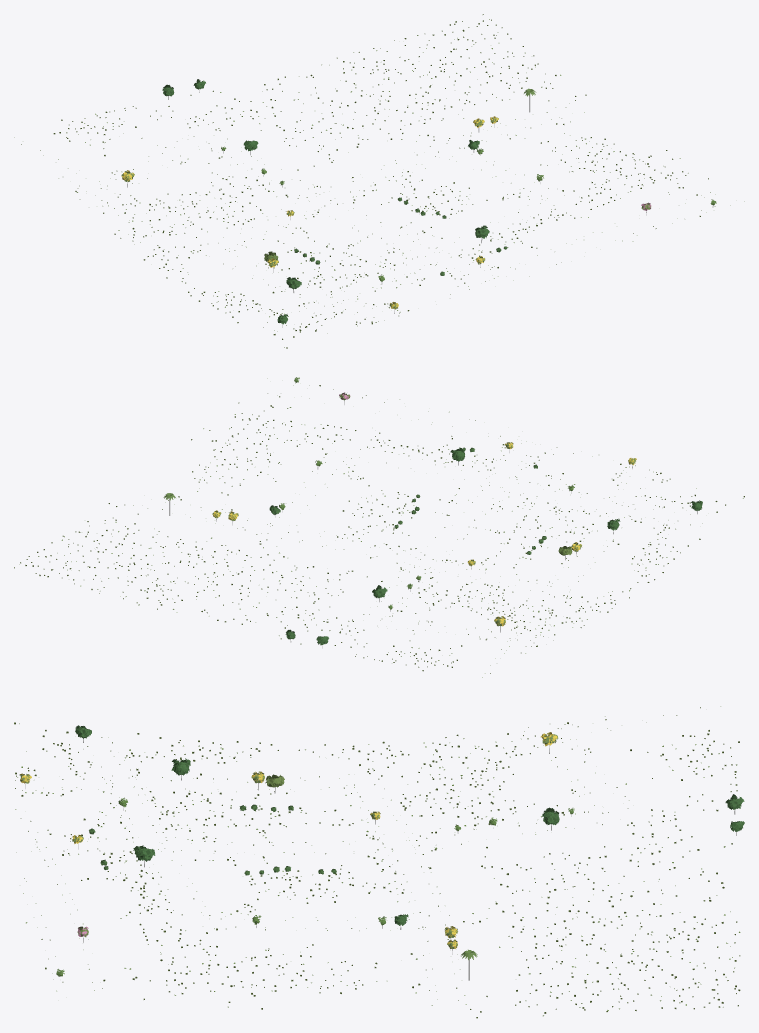
Rendered from Vegetation.fbx.
3 renders of one model, top to bottom at view 1: azimuth 30°, elevation 25°; view 2: azimuth 150°, elevation 25°; view 3: azimuth 270°, elevation 25°, orthographic. The views are drawn at different scales.
Visible parts, largest first — view 1: EXPORT_OT_Vegetation_SA_M01_02_S02_02; view 2: EXPORT_OT_Vegetation_SA_M01_02_S02_02; view 3: EXPORT_OT_Vegetation_SA_M01_02_S02_02.
Boxes of the visible parts, box(x1,y1,x2,y2) form: EXPORT_OT_Vegetation_SA_M01_02_S02_02: box(14, 14, 744, 348); EXPORT_OT_Vegetation_SA_M01_02_S02_02: box(14, 377, 744, 677); EXPORT_OT_Vegetation_SA_M01_02_S02_02: box(14, 706, 744, 1018).
Size of the model in its own units: 249 by 23.98 by 252.
